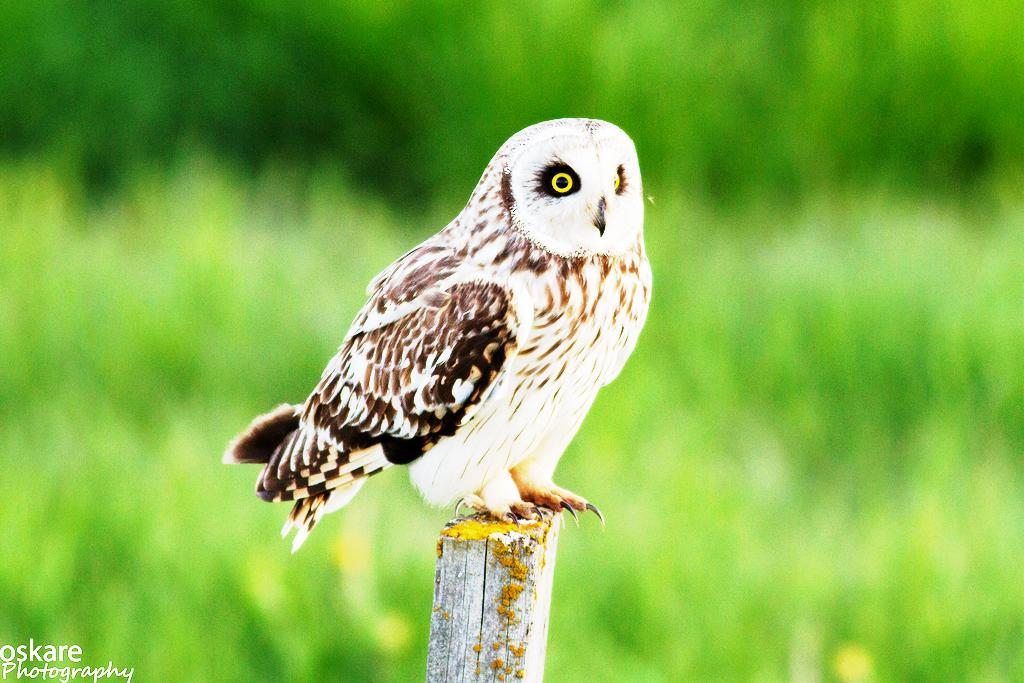Owl: (217, 119, 659, 556)
